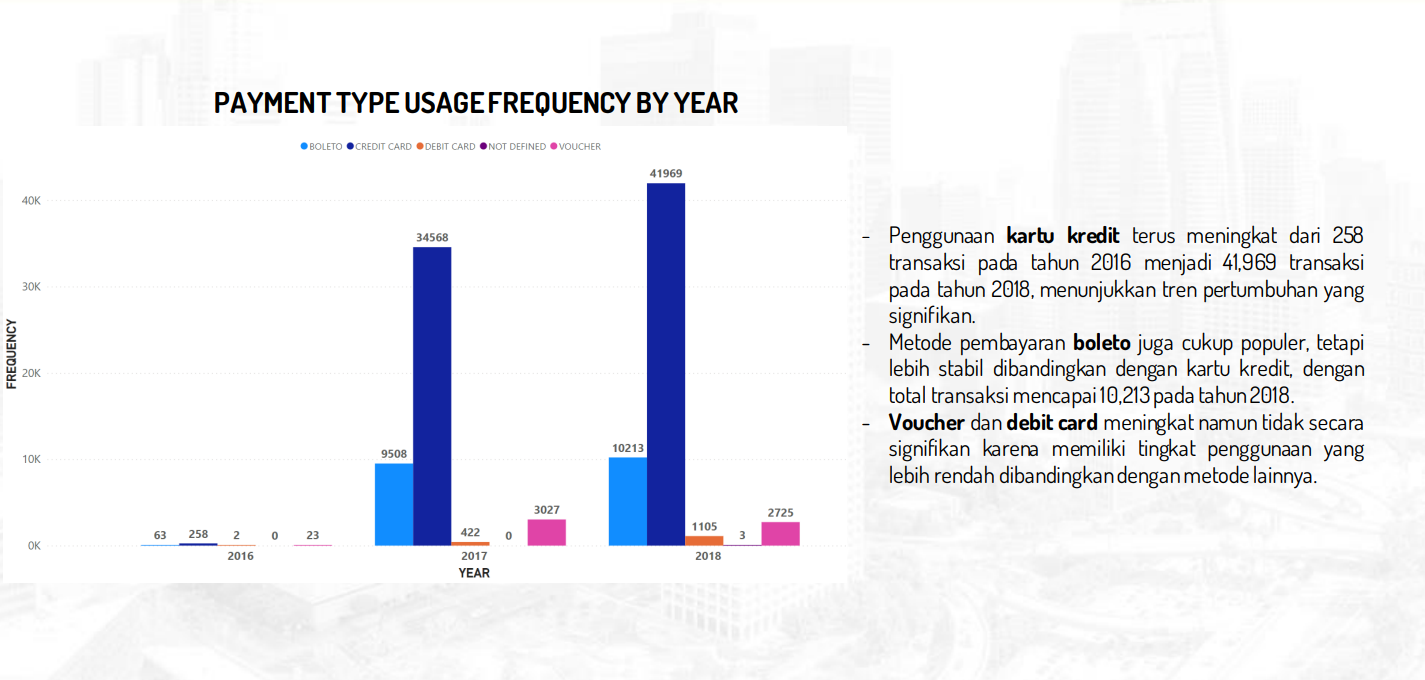

What the dashboard file says about the page in this screenshot:
{"tool":"powerbi","page":{"name":"payment_type_2","canvas":[1280,720],"ordinal":1},"visuals":[{"type":"clusteredColumnChart","title":"PAYMENT TYPE USAGE FREQUENCY BY YEAR","fields":{"Category":["master_table_annual_payment_type_usage.year"],"Y":["Sum(master_table_annual_payment_type_usage.boleto)","Sum(master_table_annual_payment_type_usage.credit_card)","Sum(master_table_annual_payment_type_usage.debit_card)","Sum(master_table_annual_payment_type_usage.not_defined)","Sum(master_table_annual_payment_type_usage.voucher)"]},"box":[0,0,1279.8,720.2],"z":0}]}

Visuals, with their boxes on the page's 1280x720 design canvas (x1, y1, x2, y2). These are canvas units, not pixel positions in the 1425x680 screenshot, which may show the page scaled, cropped or inside an application window:
"PAYMENT TYPE USAGE FREQUENCY BY YEAR" clusteredColumnChart: (x1=0, y1=0, x2=1280, y2=720)
